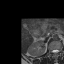CCS_normal: (54, 47, 56, 56)
LFS_normal: (58, 47, 60, 53)
LLS_normal: (56, 47, 58, 54)
RFS_normal: (50, 47, 52, 54)
RLS_normal: (52, 47, 54, 54)
